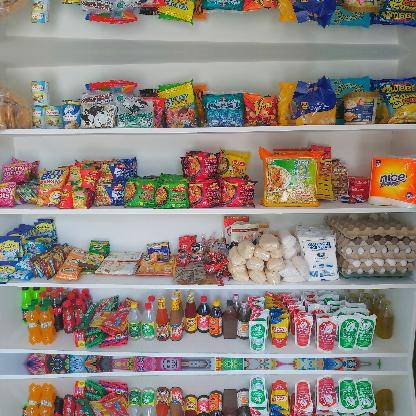Lady-s-Choice: (342, 92, 378, 124), (342, 0, 379, 13)
